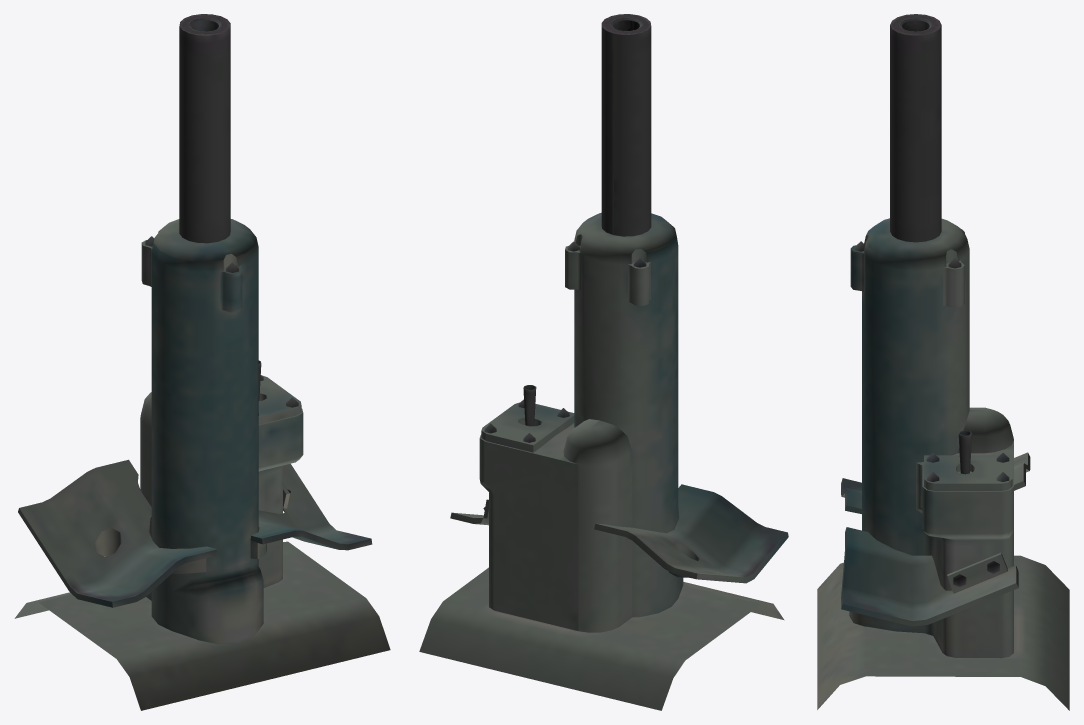
The model's file is Gun_03.glb.
3 renders of one model, left to right at view 1: azimuth 30°, elevation 25°; view 2: azimuth 150°, elevation 25°; view 3: azimuth 270°, elevation 25°, orthographic. The views are drawn at different scales.
Parts seen in each view (by area): view 1: set_0_group_0; view 2: set_0_group_0; view 3: set_0_group_0.
Boxes of the visible parts, x1,y1,x2,y2 form: set_0_group_0: (14, 14, 390, 710); set_0_group_0: (419, 14, 788, 710); set_0_group_0: (817, 14, 1069, 710).
Bounding box in the file's own units: 0.4035 × 0.9036 × 0.3331.
Materials: 1 (1 with a texture image).
